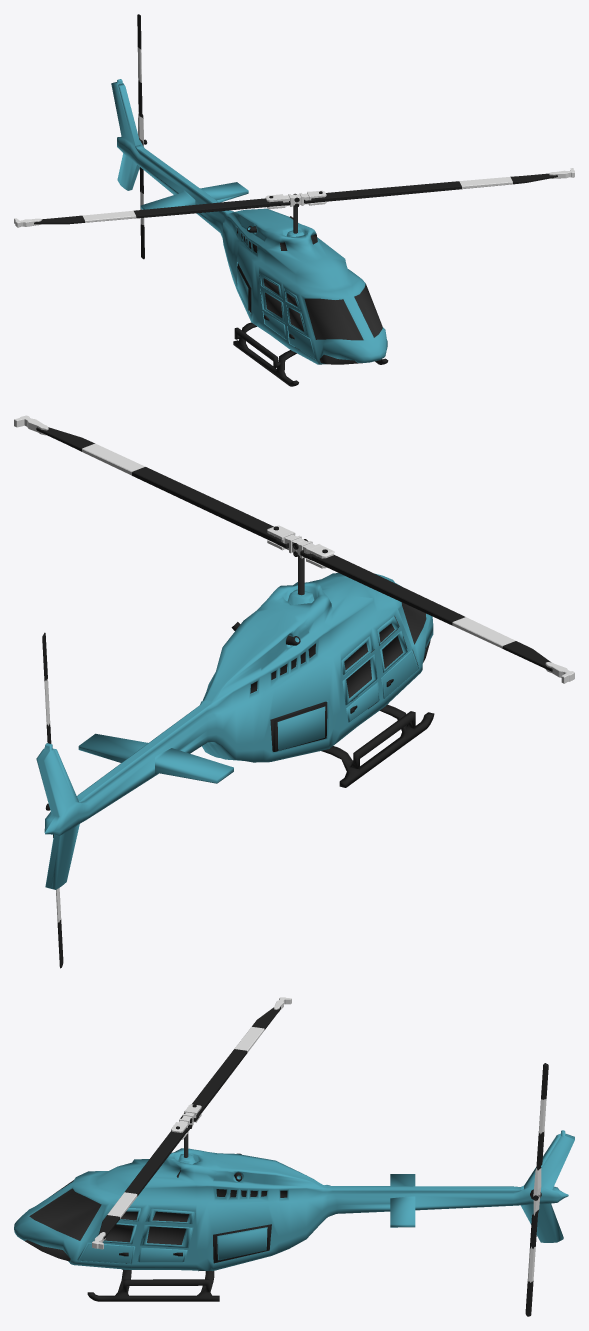
The model's file is helicopter_model.glb.
3 views of the same model, one above another, from view 1: azimuth 30°, elevation 25°; view 2: azimuth 150°, elevation 25°; view 3: azimuth 270°, elevation 25° (orthographic). The views are drawn at different scales.
Visible parts, largest first — view 1: body_helicopter, baling baling_1, baling-baling_2; view 2: body_helicopter, baling baling_1, baling-baling_2; view 3: body_helicopter, baling baling_1, baling-baling_2.
Boxes of the visible parts, bbox=[...] form: body_helicopter: bbox=[111, 79, 388, 386]; baling baling_1: bbox=[14, 168, 574, 227]; baling-baling_2: bbox=[137, 14, 144, 259]; body_helicopter: bbox=[36, 555, 434, 889]; baling baling_1: bbox=[14, 415, 574, 683]; baling-baling_2: bbox=[42, 632, 63, 968]; body_helicopter: bbox=[14, 1130, 574, 1301]; baling baling_1: bbox=[92, 997, 291, 1249]; baling-baling_2: bbox=[525, 1063, 548, 1316].
Size of the model in its own units: 18.85 by 9.07 by 18.06.
